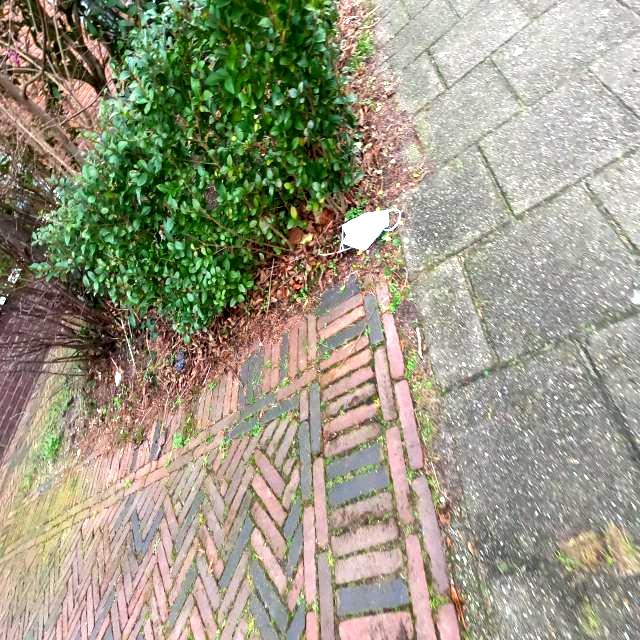Mask: (338, 208, 402, 252)
